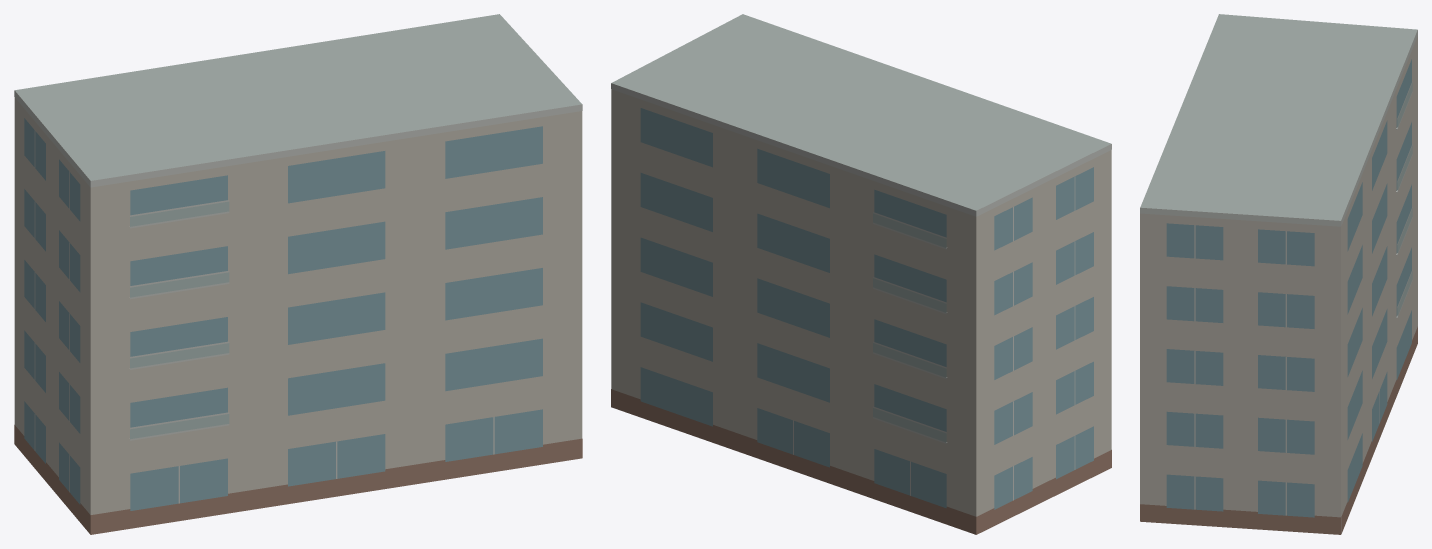
File: survey-upis-32878582.glb
3 renders of one model, left to right at view 1: azimuth 30°, elevation 25°; view 2: azimuth 150°, elevation 25°; view 3: azimuth 270°, elevation 25°, orthographic. The views are drawn at different scales.
Parts seen in each view (by area): view 1: survey-upis-32878582.tmp; view 2: survey-upis-32878582.tmp; view 3: survey-upis-32878582.tmp.
Boxes of the visible parts, x1=… form: survey-upis-32878582.tmp: x1=14, y1=14, x2=582, y2=534; survey-upis-32878582.tmp: x1=611, y1=14, x2=1111, y2=534; survey-upis-32878582.tmp: x1=1140, y1=14, x2=1417, y2=534.
Bounding box in the file's own units: 18.59 × 13.15 × 10.55.
